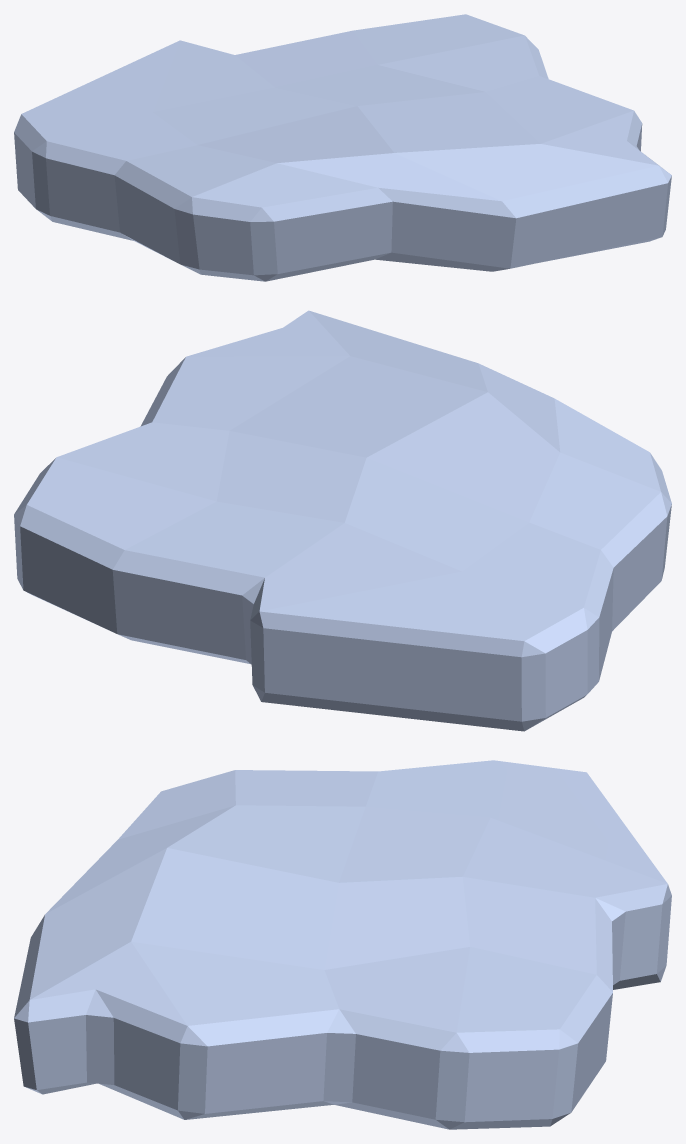
The model's file is floe9.fbx.
The picture shows the model from 3 angles, top to bottom: view 1: azimuth 30°, elevation 25°; view 2: azimuth 150°, elevation 25°; view 3: azimuth 270°, elevation 25°; orthographic projection. The views are drawn at different scales.
Visible parts, largest first — view 1: Plane.024; view 2: Plane.024; view 3: Plane.024.
Boxes of the visible parts, x1=… form: Plane.024: x1=14, y1=14, x2=671, y2=281; Plane.024: x1=14, y1=310, x2=671, y2=731; Plane.024: x1=14, y1=760, x2=671, y2=1129.
Bounding box in the file's own units: 362 × 84.74 × 350.
